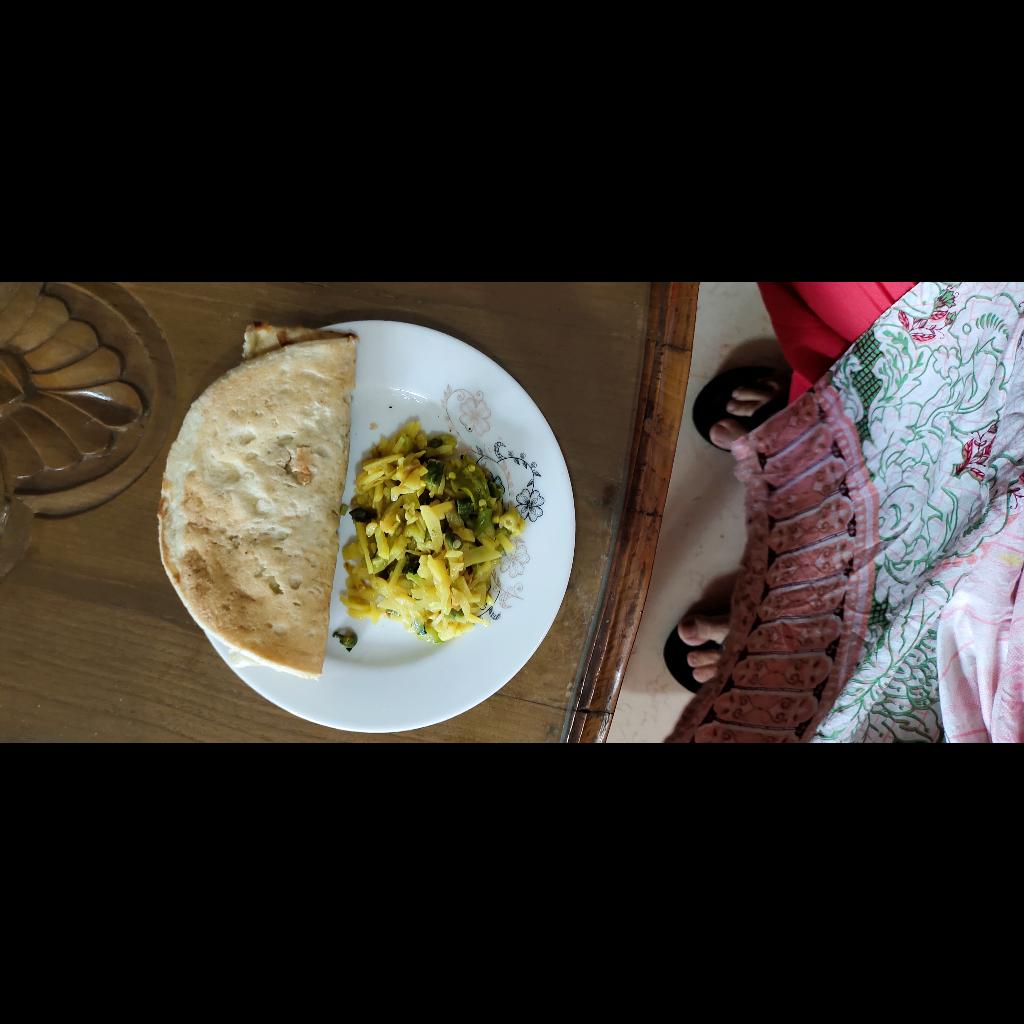ruti: (65, 437, 421, 634)
vegetable: (91, 623, 324, 808)
